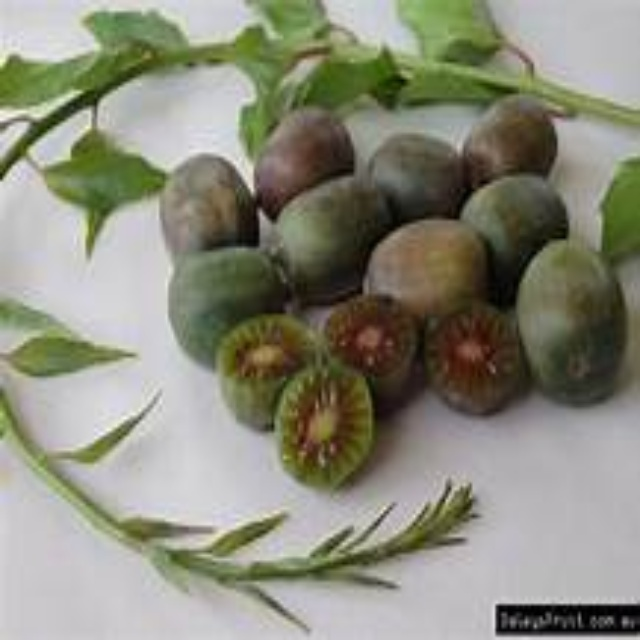kiwi: (222, 305, 526, 480), (517, 237, 637, 414), (147, 248, 302, 362), (357, 212, 487, 320), (451, 170, 568, 273), (156, 155, 263, 259), (280, 181, 382, 290), (253, 99, 357, 198), (461, 95, 562, 186), (371, 145, 467, 216)
